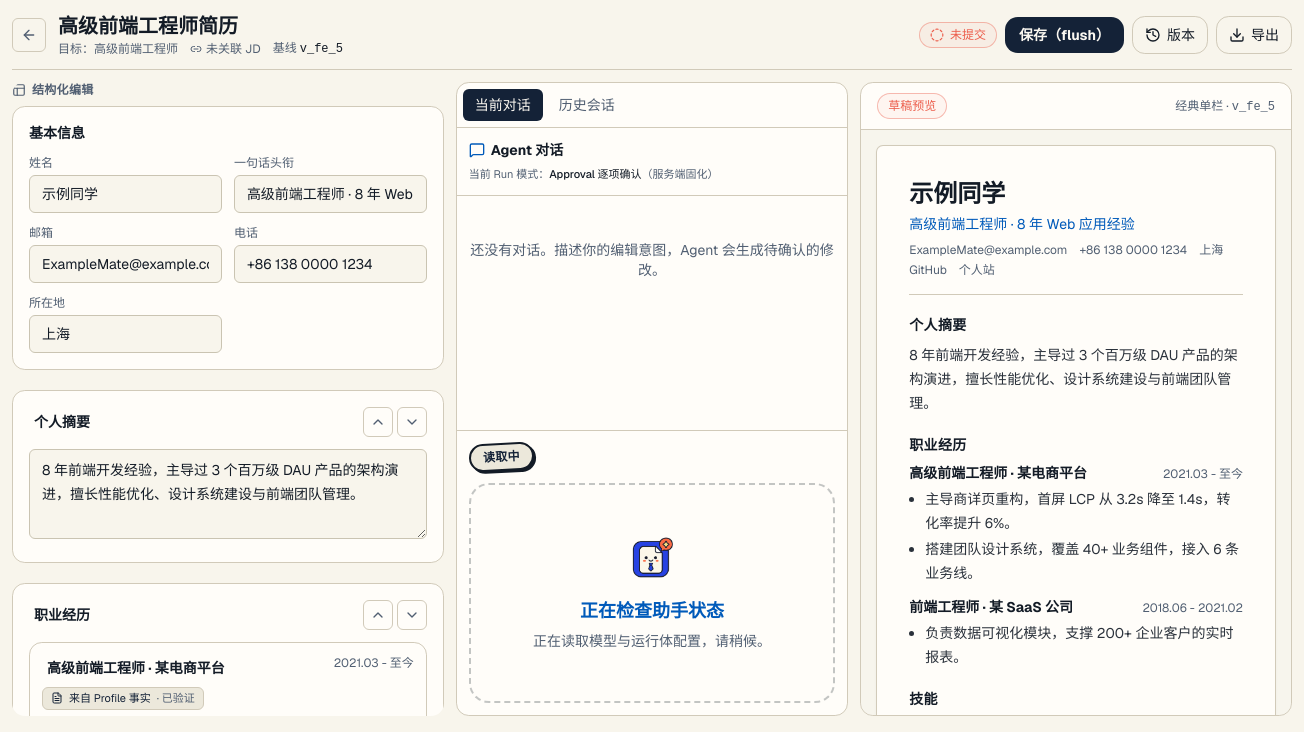
Scenario: 简历编辑器：手动保存 › 基线过期时就地展示 i18n 冲突文案，不透出后端 message，也不显示已保存
Click the button "保存（flush）": click(1064, 34) [1005,16,1124,52]
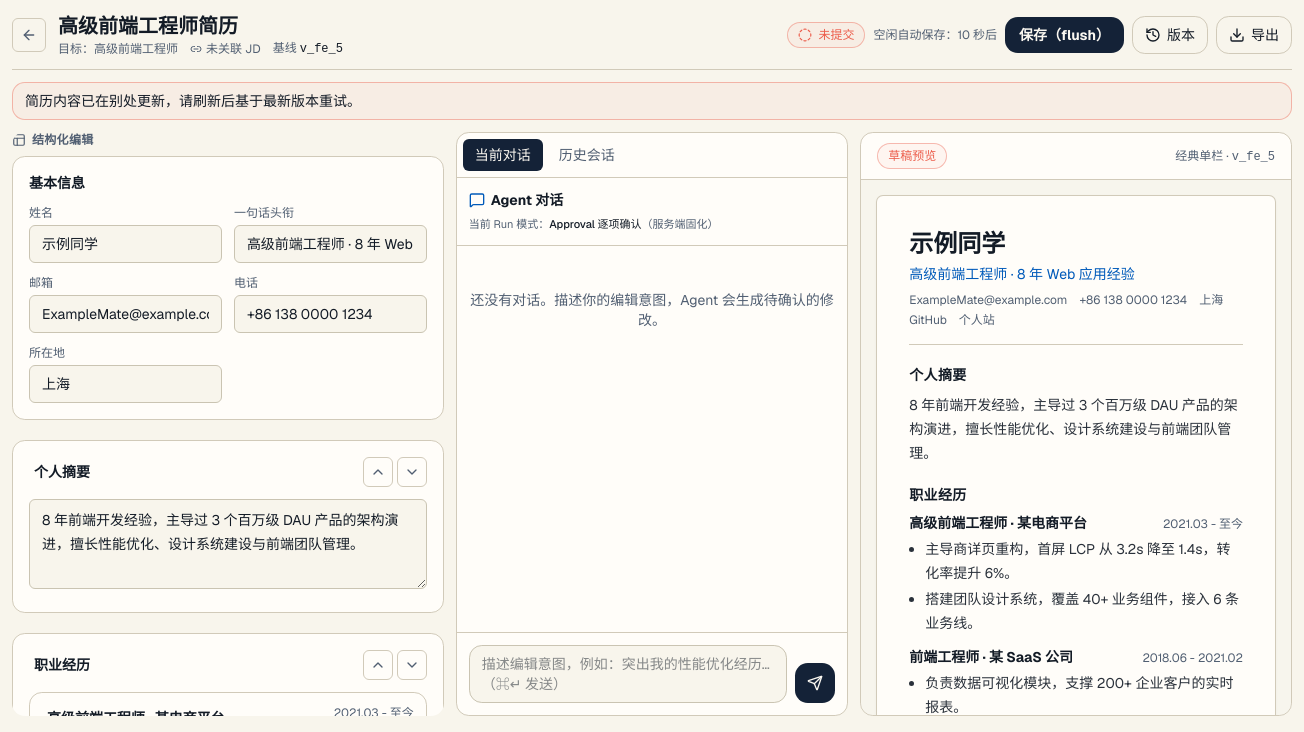
Expected: the message reads "简历内容已在别处更新，请刷新后基于最新版本重试。", [25,92,361,110]
